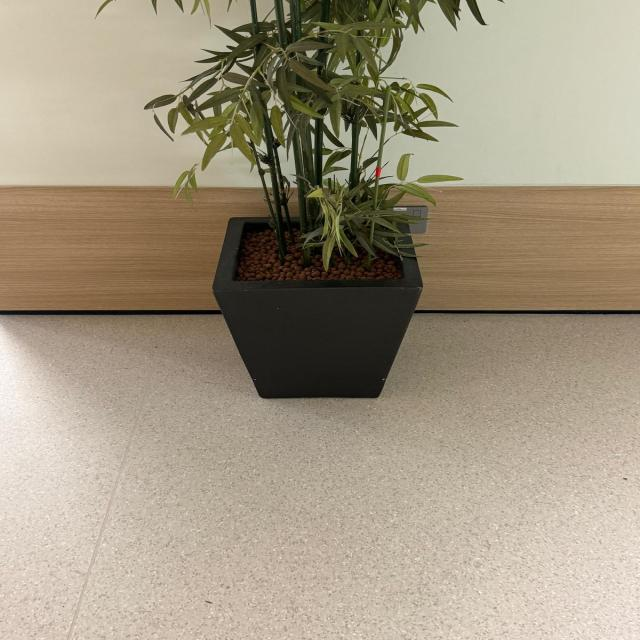Pot: (212, 214, 424, 399)
